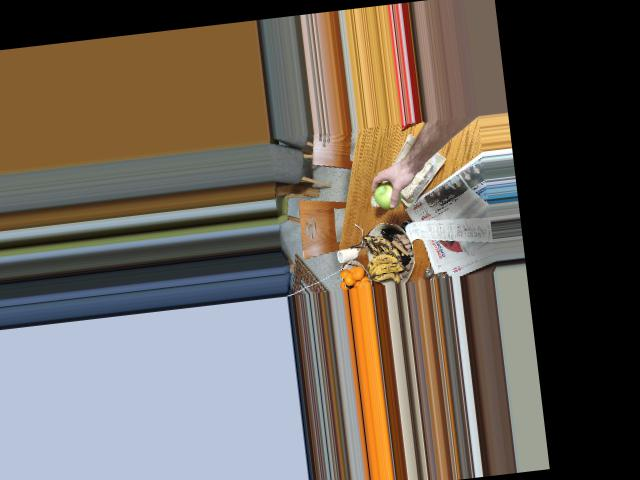apple: (371, 178, 404, 211)
